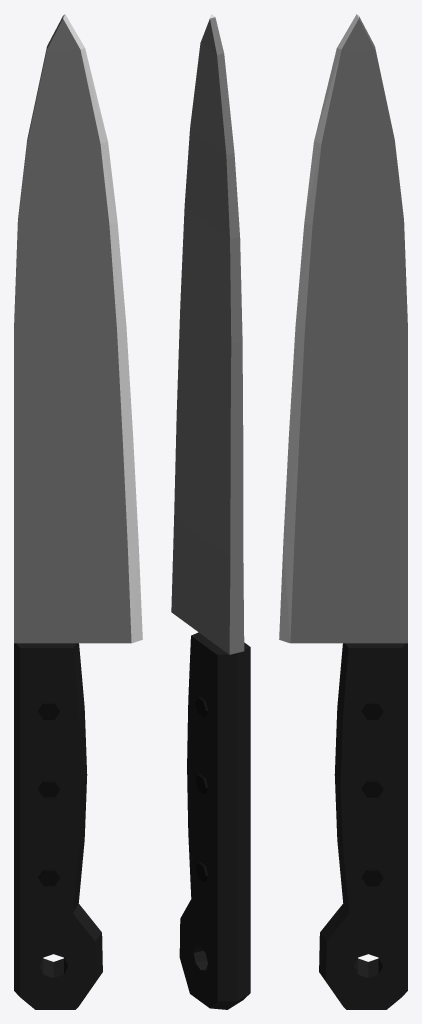
File: Kitchen Knife.obj
The picture shows the model from 3 angles, left to right: view 1: azimuth 90°, elevation 25°; view 2: azimuth 210°, elevation 25°; view 3: azimuth 270°, elevation 25°; orthographic projection.
Parts seen in each view (by area): view 1: Kitchen_Knife_Plane.001; view 2: Kitchen_Knife_Plane.001; view 3: Kitchen_Knife_Plane.001.
Boxes of the visible parts, left/top/right/bottom form: Kitchen_Knife_Plane.001: left=14, top=14, right=142, bottom=1009; Kitchen_Knife_Plane.001: left=171, top=14, right=250, bottom=1009; Kitchen_Knife_Plane.001: left=279, top=14, right=407, bottom=1009.
Bounding box in the file's own units: 0.0146 × 0.3623 × 0.0426.
